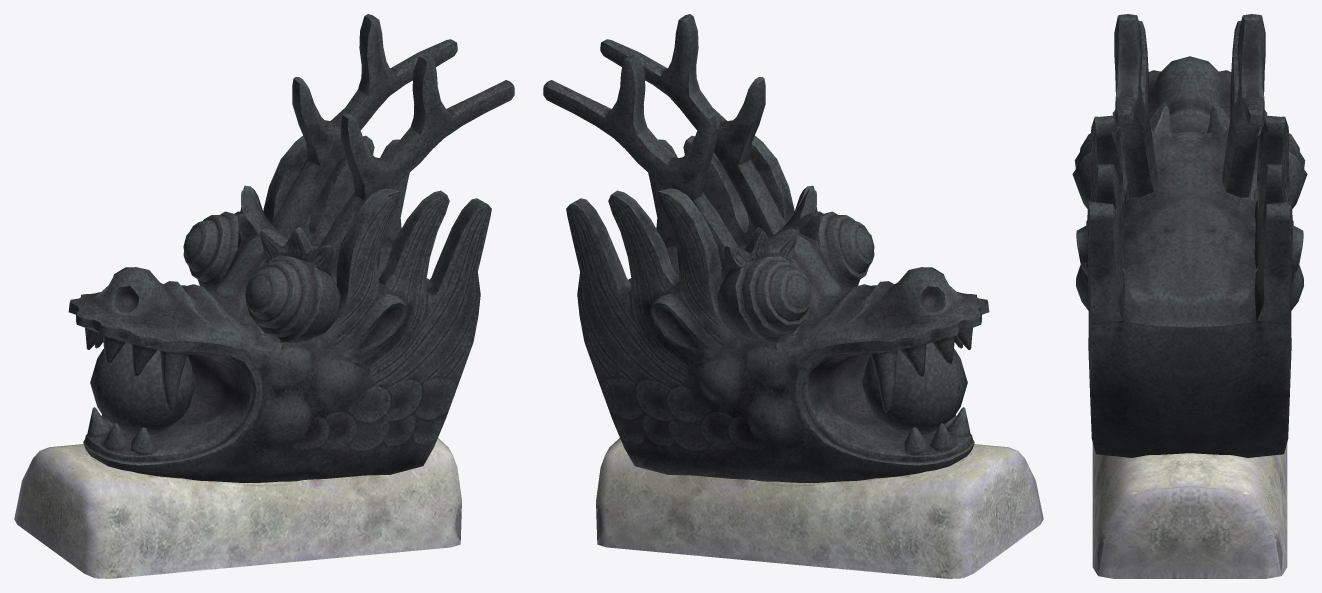
File: SM_Chwidu01a.fbx
3 renders of one model, left to right at view 1: azimuth 30°, elevation 25°; view 2: azimuth 150°, elevation 25°; view 3: azimuth 270°, elevation 25°, orthographic. The views are drawn at different scales.
Parts seen in each view (by area): view 1: SM_Chwidu01a; view 2: SM_Chwidu01a; view 3: SM_Chwidu01a.
Part boxes in pixels (box(x1,y1,x2,y2)): SM_Chwidu01a: box(14, 14, 514, 578); SM_Chwidu01a: box(543, 14, 1043, 578); SM_Chwidu01a: box(1072, 14, 1307, 578).
Bounding box in the file's own units: 51.82 × 21.43 × 55.29.
Materials: 1 (1 with a texture image).
